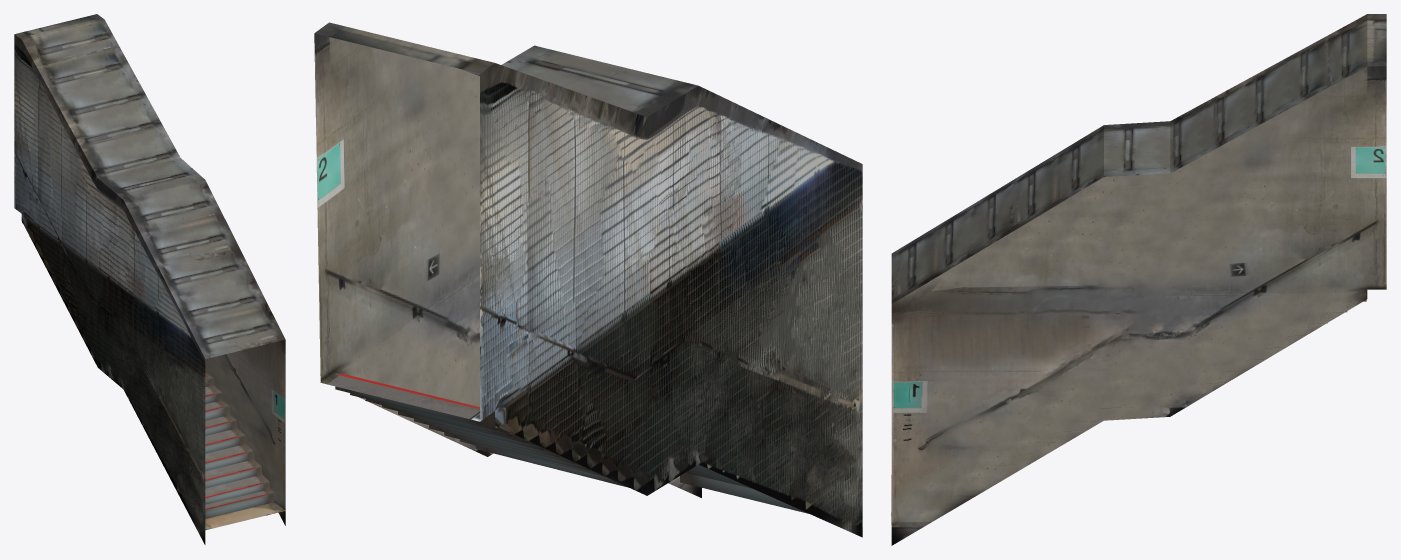
The model's file is stairs_1_to_2_LP_v2.fbx.
3 views of the same model, side by side, from view 1: azimuth 30°, elevation 25°; view 2: azimuth 150°, elevation 25°; view 3: azimuth 270°, elevation 25° (orthographic). The views are drawn at different scales.
Parts seen in each view (by area): view 1: stairs 1 to 2 LP v2; view 2: stairs 1 to 2 LP v2; view 3: stairs 1 to 2 LP v2.
Boxes of the visible parts, x1,y1,x2,y2 form: stairs 1 to 2 LP v2: (14, 14, 285, 544); stairs 1 to 2 LP v2: (314, 22, 862, 537); stairs 1 to 2 LP v2: (891, 14, 1386, 545).
Bounding box in the file's own units: 170 × 728 × 678.
1 material, 1 textured.
